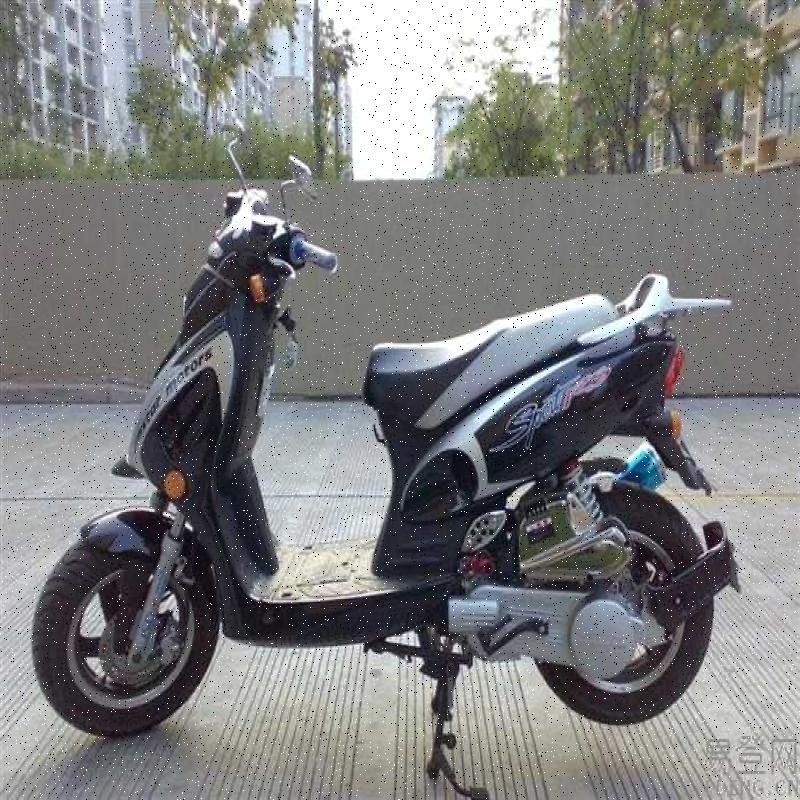bike: (47, 122, 728, 721)
